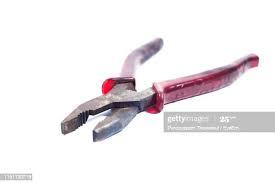pliers: (59, 36, 259, 142)
